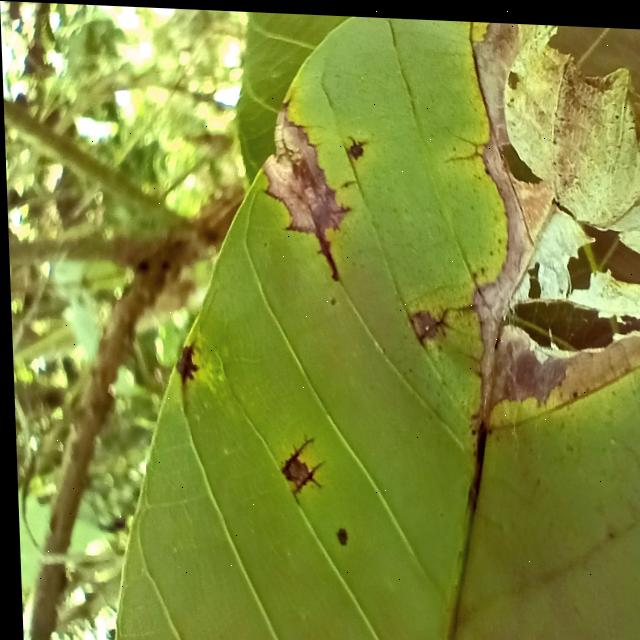Corynespora: (274, 433, 324, 494), (404, 300, 453, 347), (312, 229, 337, 279), (171, 338, 197, 383), (346, 132, 365, 157)
Leaf-Blight: (463, 16, 640, 416), (259, 106, 320, 224)
